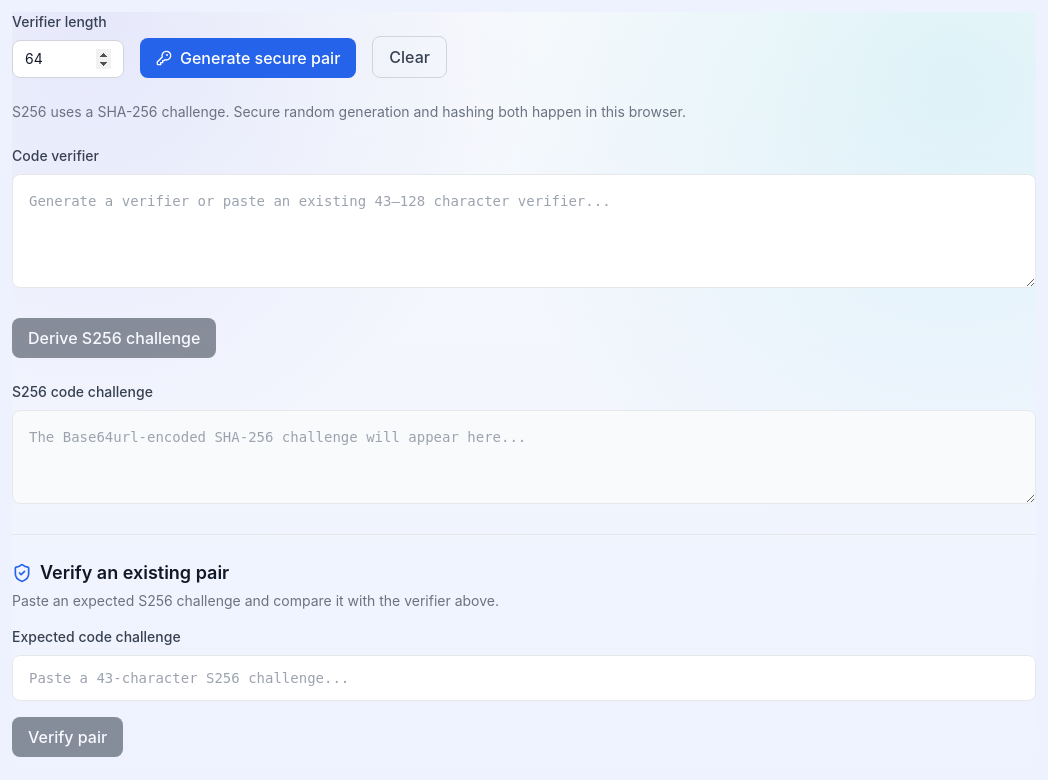
Test: PkceGeneratorTool async operations › ignores a generated pair when verifier length changes before hashing completes
Click the button "Generate secure pair" at (248,58), box x1=140 y1=38 x2=356 y2=78
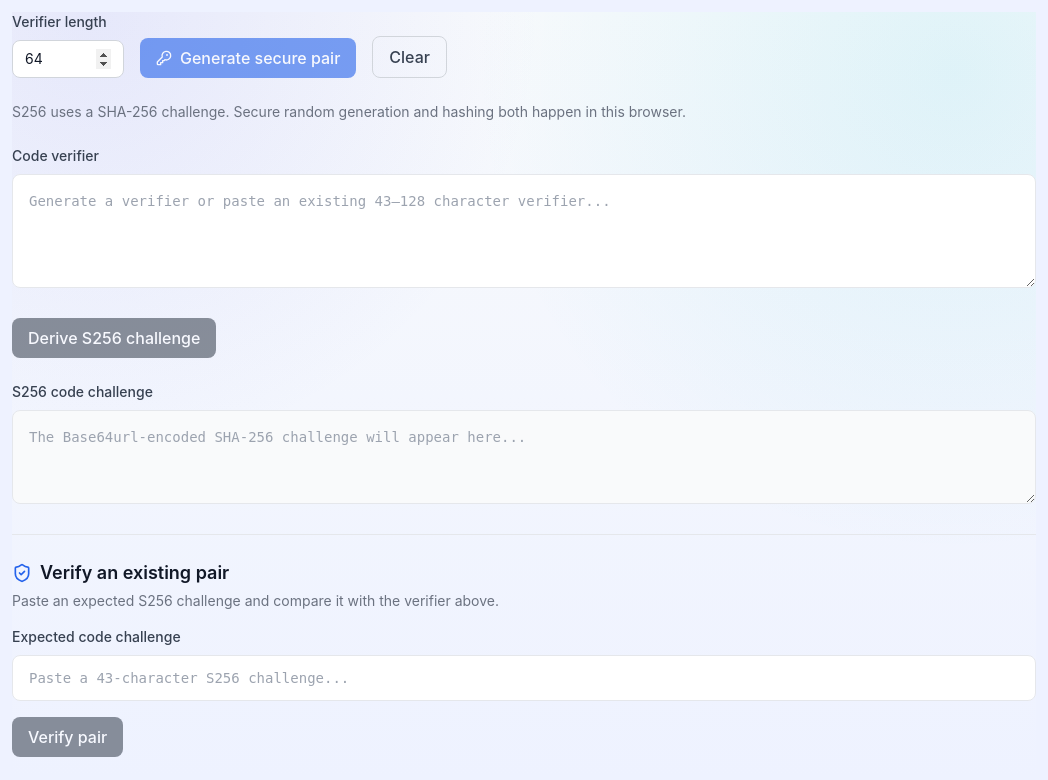
Expected: the button "Generate secure pair" is disabled, x1=140 y1=38 x2=356 y2=78
Replace the text in the number field labelled "Verifier length" with "80" at (68,59), box x1=12 y1=40 x2=124 y2=78
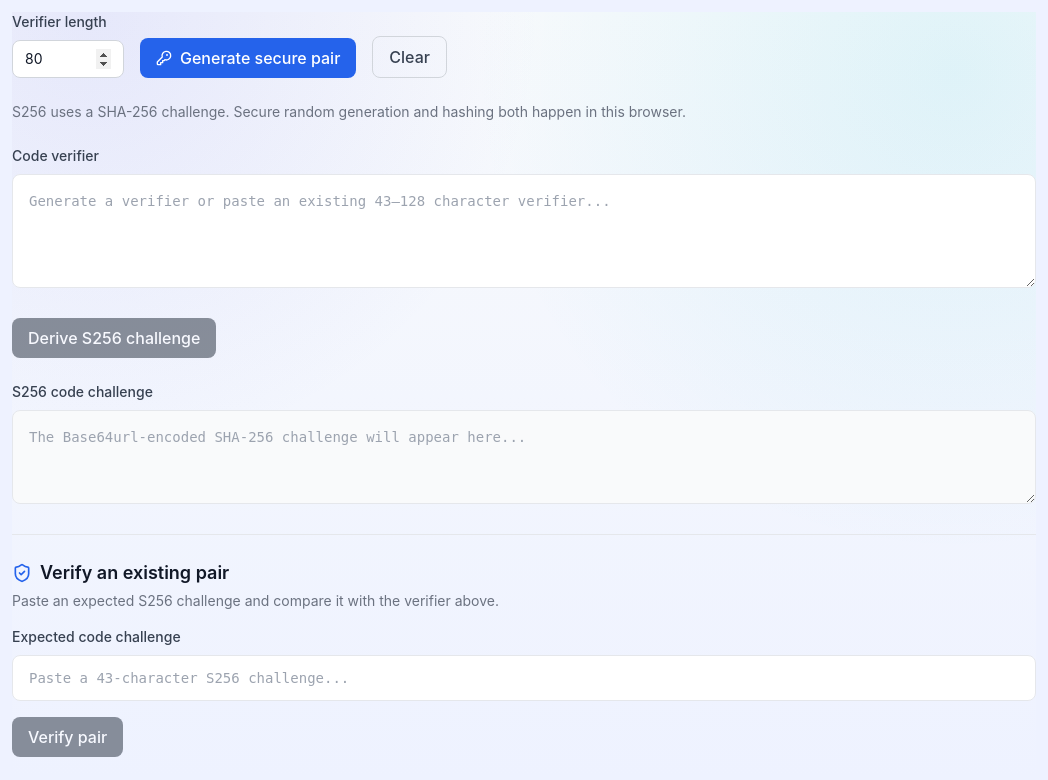
Expected: the text box labelled "Code verifier" is empty, x1=12 y1=174 x2=1036 y2=288
Expected: the button "Generate secure pair" is enabled, x1=140 y1=38 x2=356 y2=78
